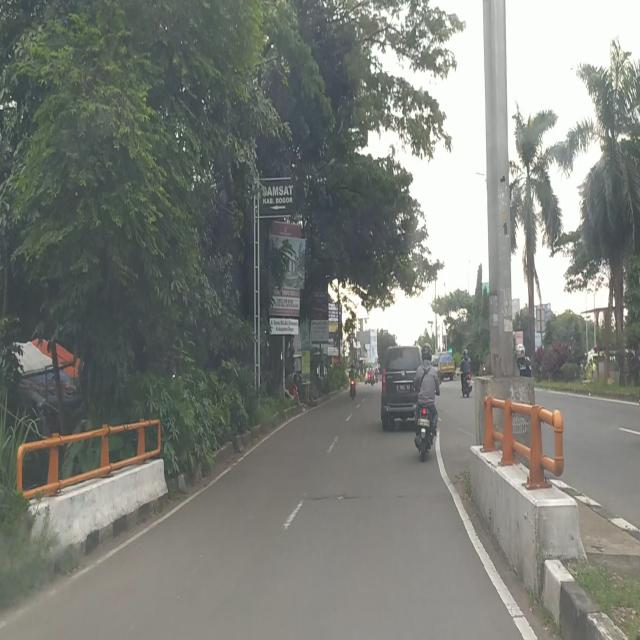Sewer Cover: (302, 488, 453, 502)
